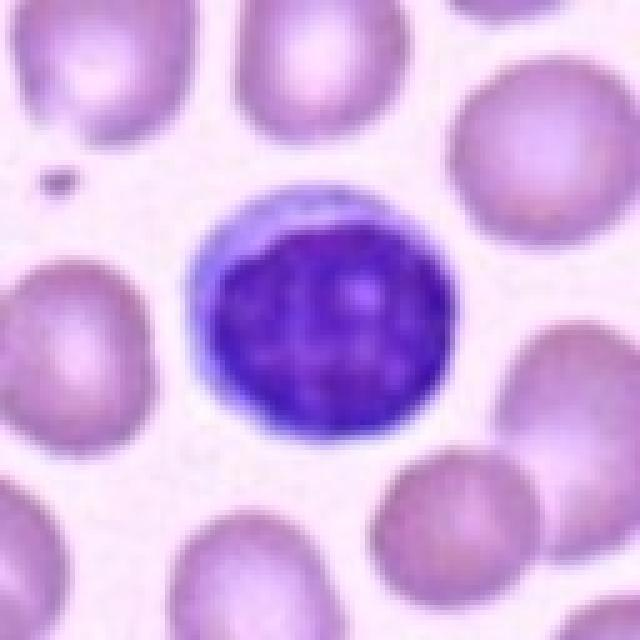lympho: (176, 176, 461, 440)
